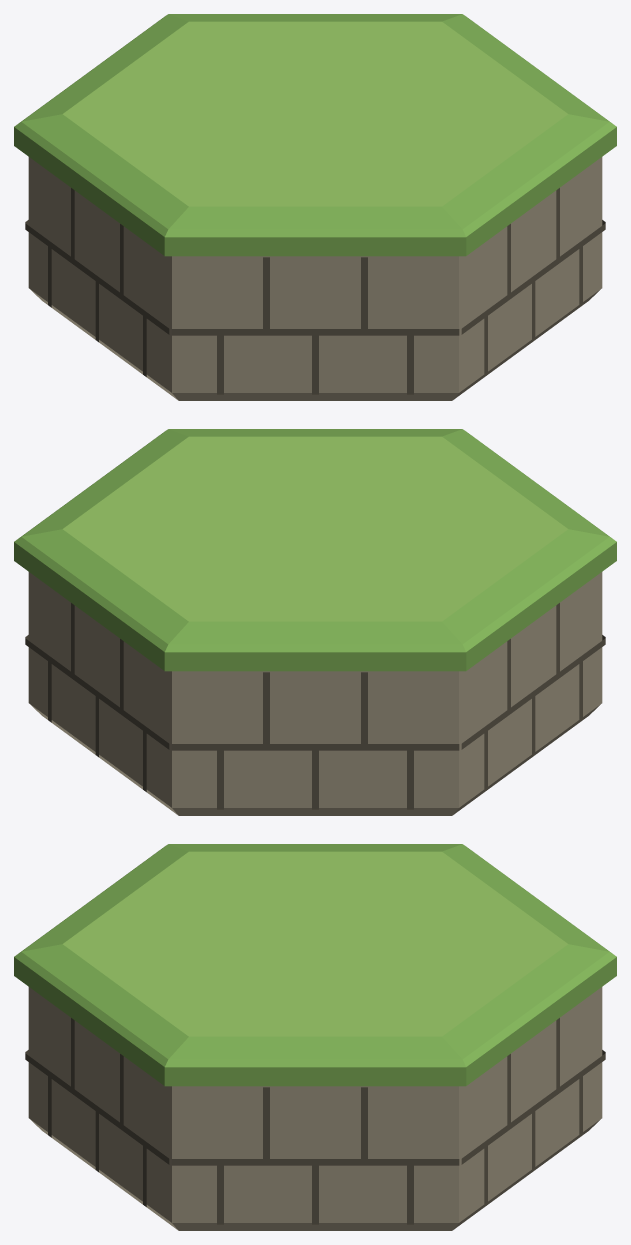
File: portrait_socket.glb
The picture shows the model from 3 angles, top to bottom: view 1: azimuth 30°, elevation 25°; view 2: azimuth 150°, elevation 25°; view 3: azimuth 270°, elevation 25°; orthographic projection.
Parts seen in each view (by area): view 1: socket; view 2: socket; view 3: socket.
Part boxes in pixels (box(x1,y1,x2,y2)): socket: box(14, 14, 616, 400); socket: box(14, 429, 616, 815); socket: box(14, 844, 616, 1230).
Size of the model in its own units: 0.7456 by 0.294 by 0.861.
